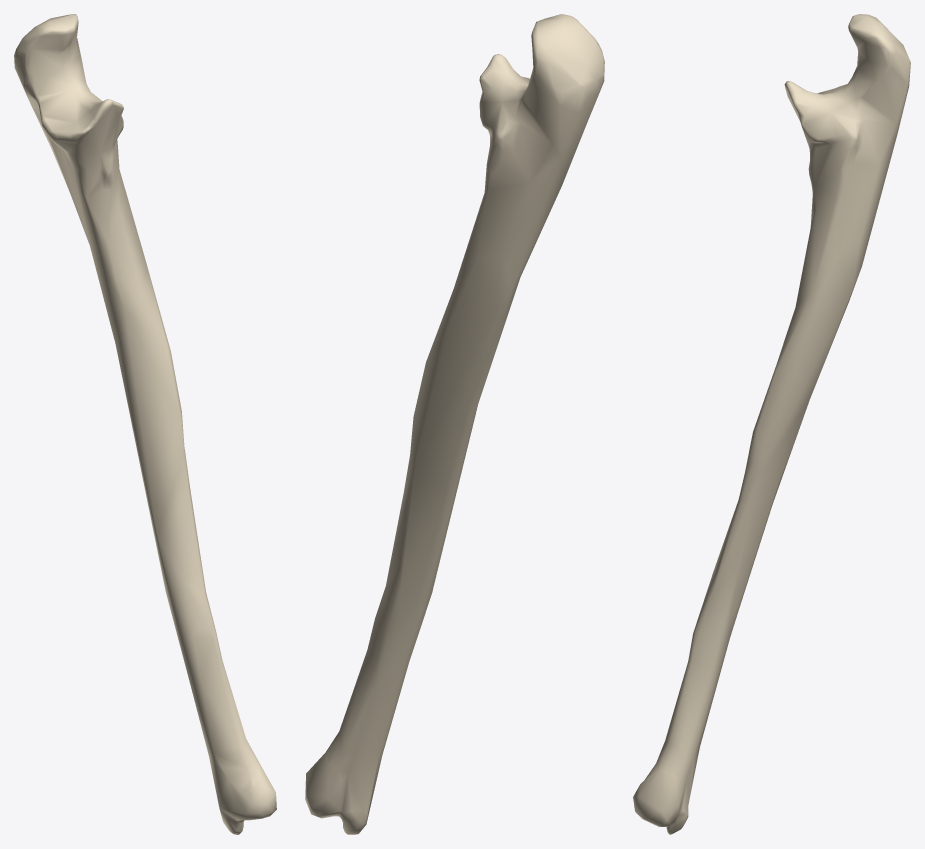
File: ulna-l.glb
3 views of the same model, side by side, from view 1: azimuth 30°, elevation 25°; view 2: azimuth 210°, elevation 25°; view 3: azimuth 270°, elevation 25° (orthographic). The views are drawn at different scales.
Parts seen in each view (by area): view 1: Ulna.l; view 2: Ulna.l; view 3: Ulna.l.
Boxes of the visible parts, <box> form: Ulna.l: <box>14,14,276,834</box>; Ulna.l: <box>305,14,604,834</box>; Ulna.l: <box>633,14,910,834</box>.
Size of the model in its own units: 0.0524 by 0.2554 by 0.0832.
